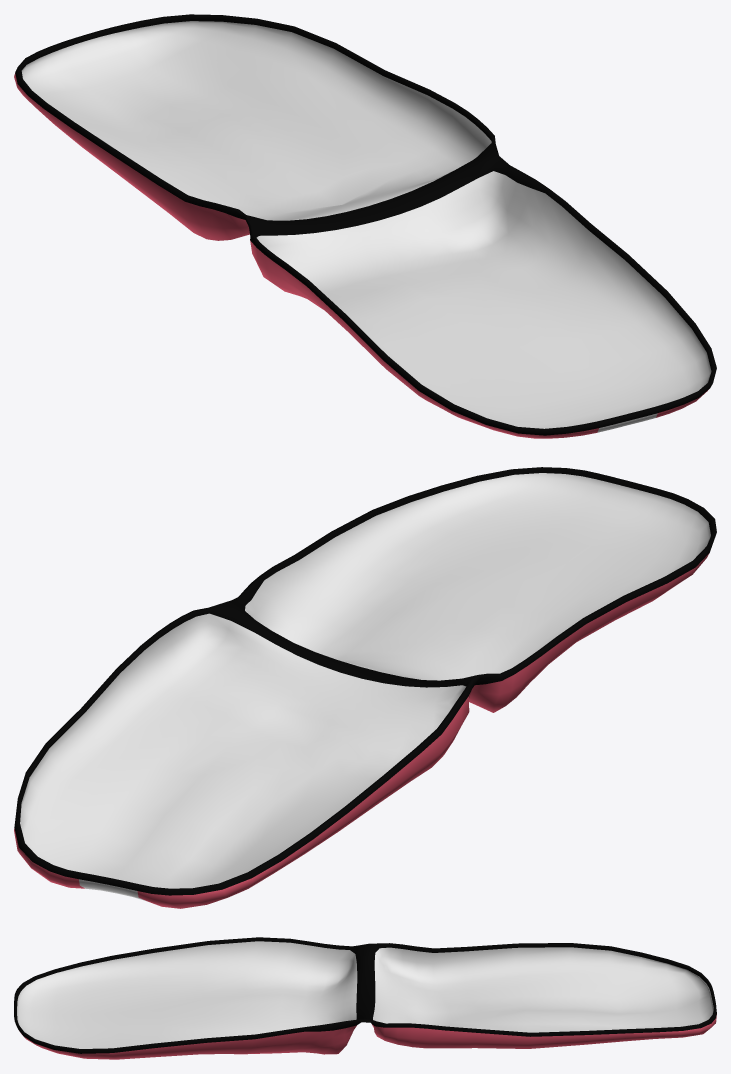
File: BootHülleEmpty.fbx
3 renders of one model, top to bottom at view 1: azimuth 30°, elevation 25°; view 2: azimuth 150°, elevation 25°; view 3: azimuth 270°, elevation 25°, orthographic. The views are drawn at different scales.
Parts seen in each view (by area): view 1: BootHülle.003; view 2: BootHülle.003; view 3: BootHülle.003.
Boxes of the visible parts, x1,y1,x2,y2 form: BootHülle.003: (14, 14, 716, 438); BootHülle.003: (14, 467, 716, 908); BootHülle.003: (14, 937, 716, 1059).
Size of the model in its own units: 86.09 by 21.26 by 267.
